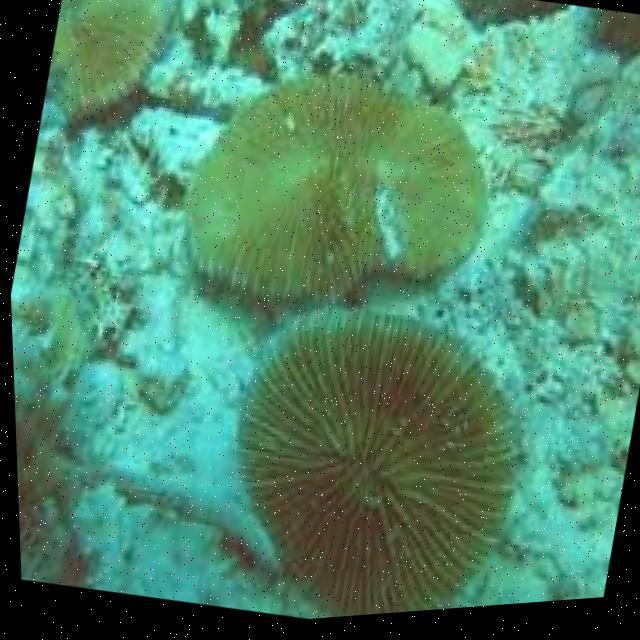Healthy Coral: (176, 268, 552, 630), (164, 19, 520, 352), (47, 0, 197, 120)
